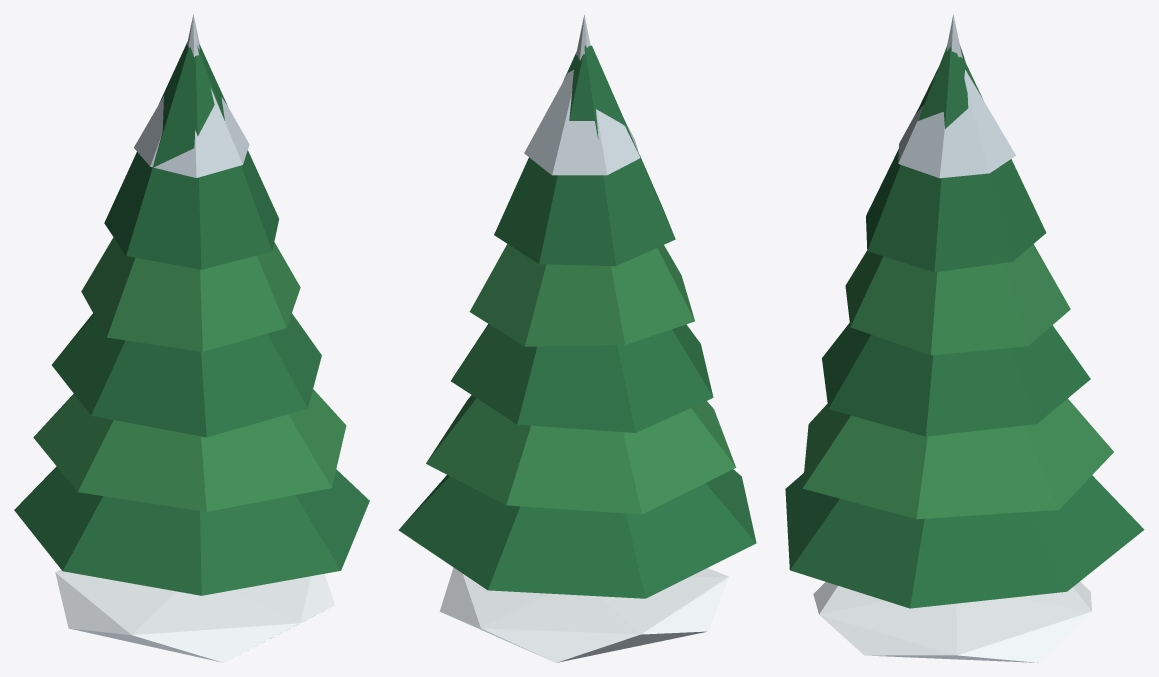
File: fir_tree_large.glb
3 renders of one model, left to right at view 1: azimuth 30°, elevation 25°; view 2: azimuth 150°, elevation 25°; view 3: azimuth 270°, elevation 25°, orthographic.
Visible parts, largest first — view 1: part_crown, fir_tree_large; view 2: part_crown, fir_tree_large; view 3: part_crown, fir_tree_large.
Boxes of the visible parts, left/top/right/bottom form: part_crown: left=14, top=14, right=369, bottom=595; fir_tree_large: left=55, top=570, right=334, bottom=662; part_crown: left=398, top=14, right=756, bottom=598; fir_tree_large: left=439, top=567, right=728, bottom=662; part_crown: left=785, top=15, right=1144, bottom=608; fir_tree_large: left=813, top=582, right=1091, bottom=662.
Bounding box in the file's own units: 2.01 × 3.71 × 2.01.
